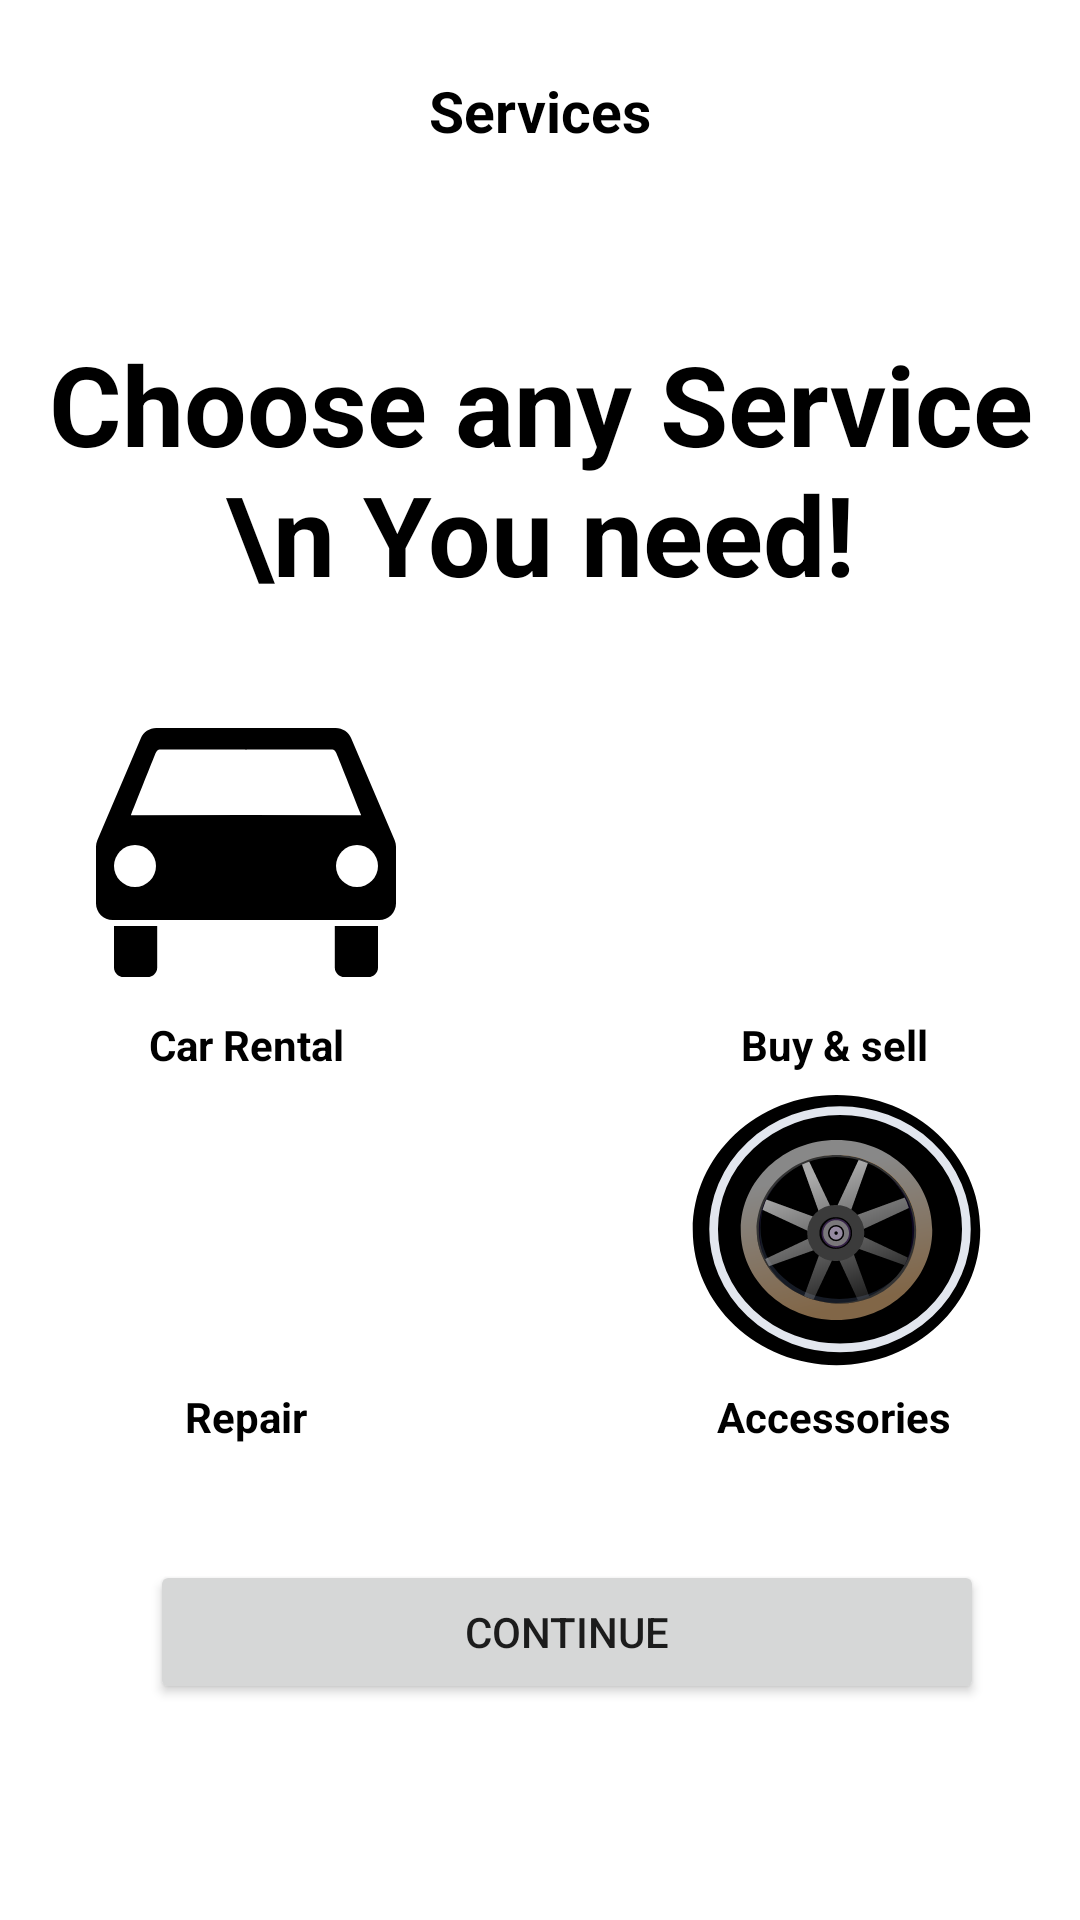

Screen size 1080w x 1920h. Icon name, then its box in pixels as bbox(x1, y1, x2, y2):
wheel: bbox(692, 1095, 981, 1366)
